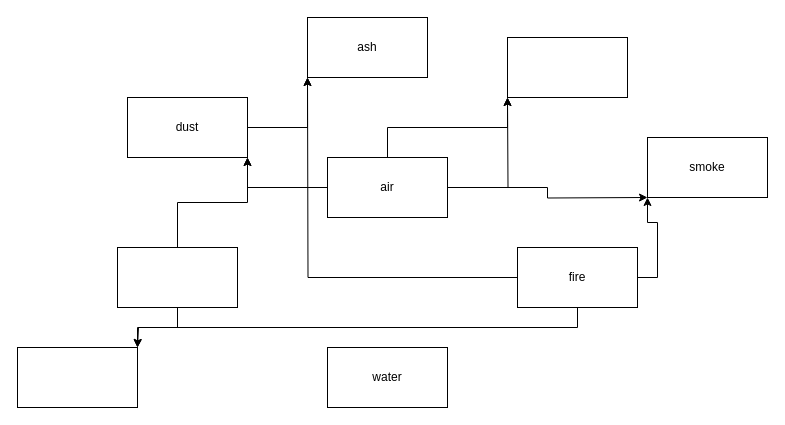
The diagram is 785 pixels wide and 425 high, and some of its shapes have lost their labels. Here are the shapes that lost their labels. From the top down, the centre of each, then its label:
At pixel 567 67: "more air".
At pixel 177 277: "earth".
At pixel 77 377: "magma".
